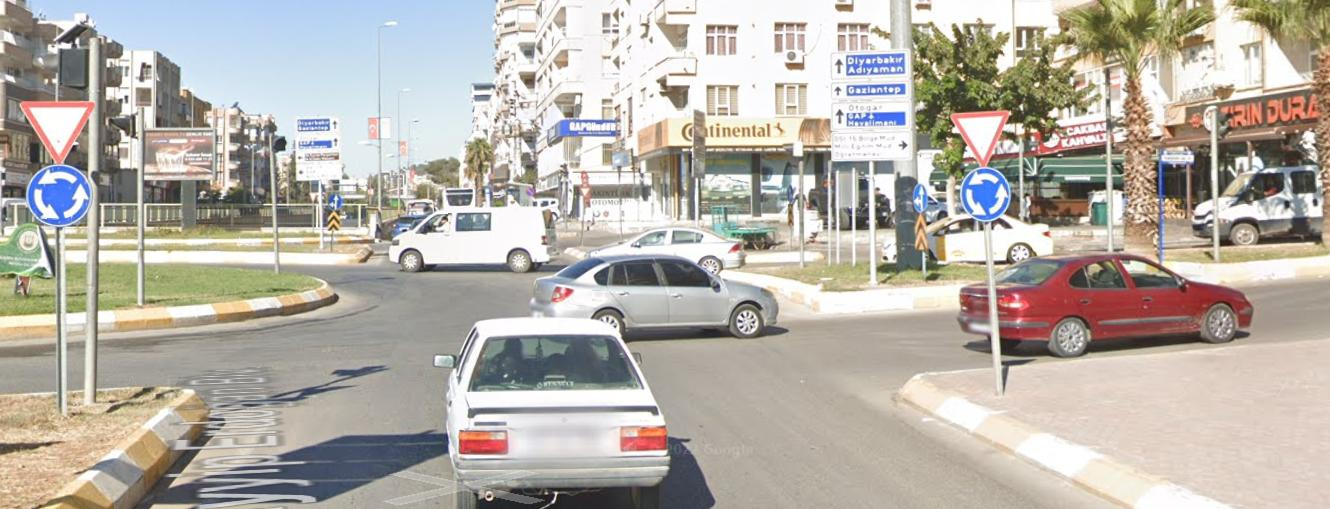crossroads: (26, 164, 93, 227), (959, 169, 1010, 220)
